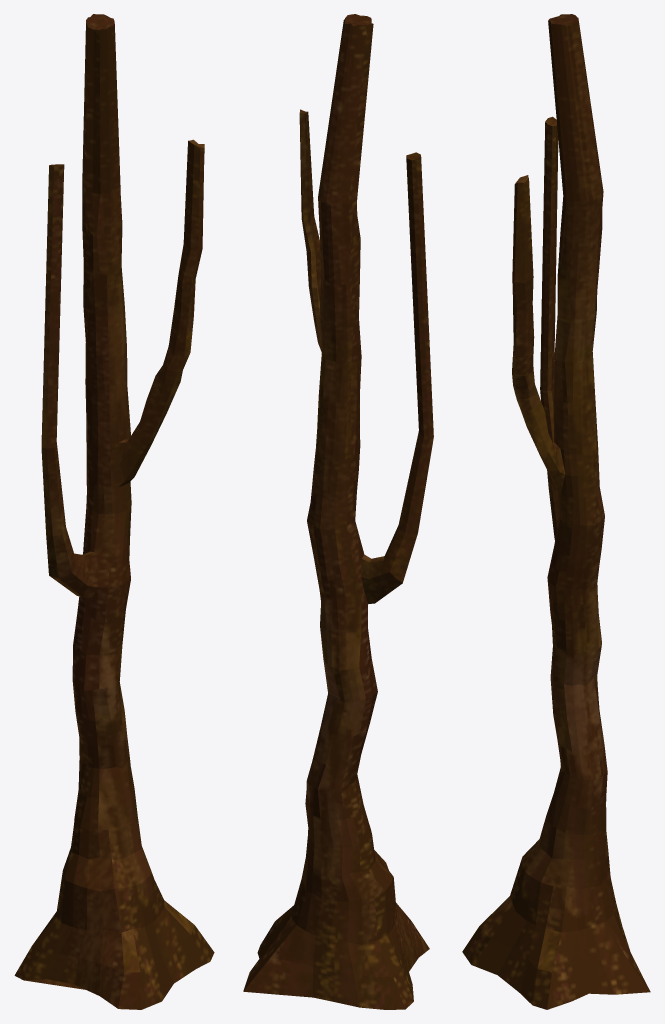
The model's file is SM_Tree5.fbx.
3 renders of one model, left to right at view 1: azimuth 30°, elevation 25°; view 2: azimuth 150°, elevation 25°; view 3: azimuth 270°, elevation 25°, orthographic.
Parts seen in each view (by area): view 1: Cylinder.007; view 2: Cylinder.007; view 3: Cylinder.007.
Part boxes in pixels (box(x1,y1,x2,y2)): Cylinder.007: box(14, 14, 214, 1009); Cylinder.007: box(243, 14, 433, 1009); Cylinder.007: box(462, 14, 650, 1009).
Bounding box in the file's own units: 334 × 1764 × 320.
